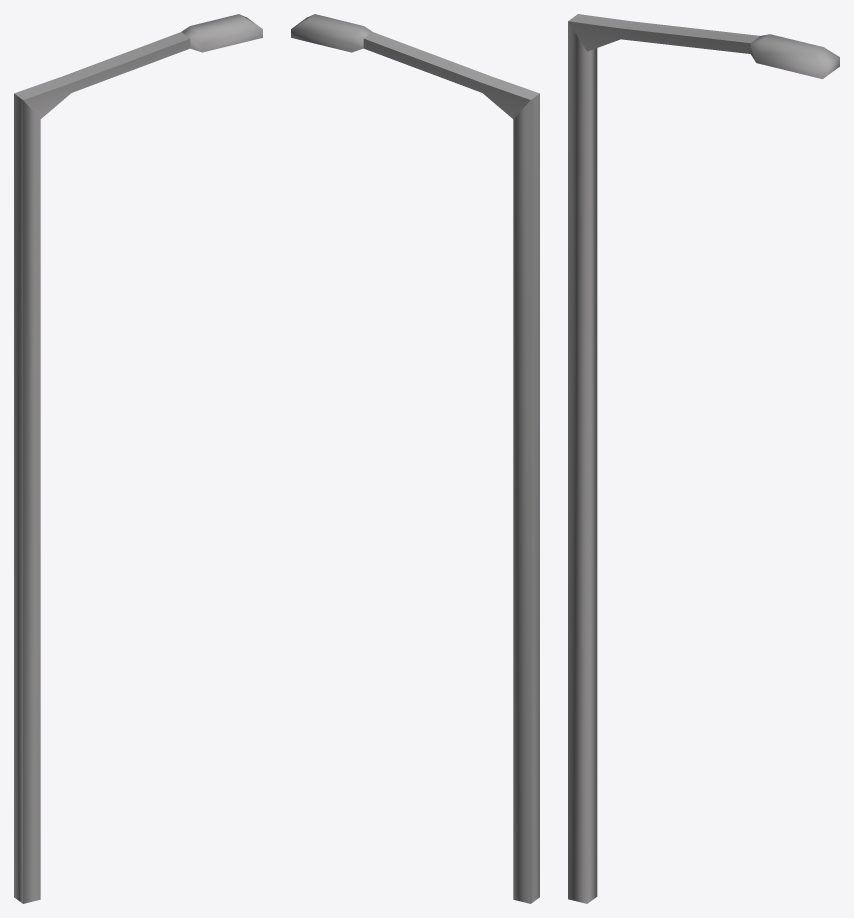
Rendered from post.FBX.
3 renders of one model, left to right at view 1: azimuth 30°, elevation 25°; view 2: azimuth 150°, elevation 25°; view 3: azimuth 330°, elevation 25°, orthographic. The views are drawn at different scales.
Parts seen in each view (by area): view 1: post; view 2: post; view 3: post.
Boxes of the visible parts, <box> form: post: <box>14,14,262,903</box>; post: <box>291,14,539,903</box>; post: <box>568,14,839,903</box>.
Bounding box in the file's own units: 335 × 1123 × 38.89.
